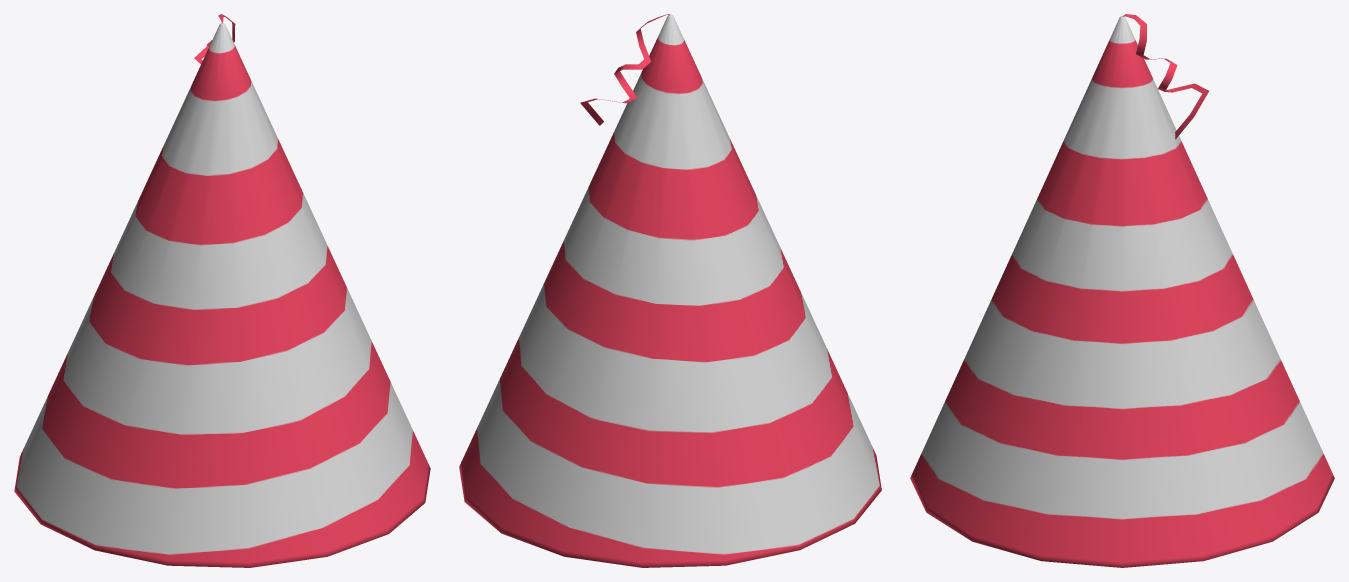
File: PartyHat.FBX
3 views of the same model, side by side, from view 1: azimuth 30°, elevation 25°; view 2: azimuth 150°, elevation 25°; view 3: azimuth 270°, elevation 25° (orthographic).
Parts seen in each view (by area): view 1: PartyHat; view 2: PartyHat; view 3: PartyHat.
Part boxes in pixels (<box>): PartyHat: <box>14,14,430,567</box>; PartyHat: <box>459,14,881,567</box>; PartyHat: <box>910,14,1334,567</box>.
Bounding box in the file's own units: 36.38 × 44.09 × 36.38.
Materials: 1 (1 with a texture image).
